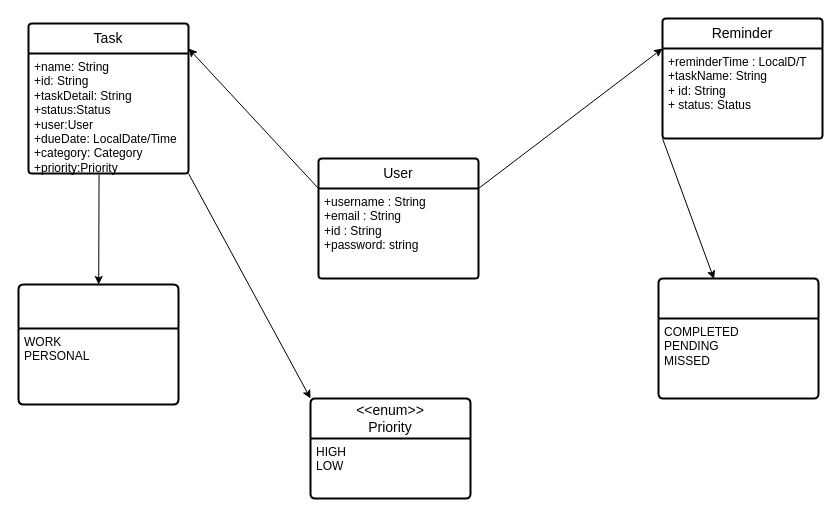
Image size: 840x516. Some labels were removed from this diagram. The box of each missing label's shape, as (x1, y1, x2, y2) in pixels:
<<enum>> Category: (17, 283, 179, 405)
<<enum>> Status: (657, 277, 819, 399)
